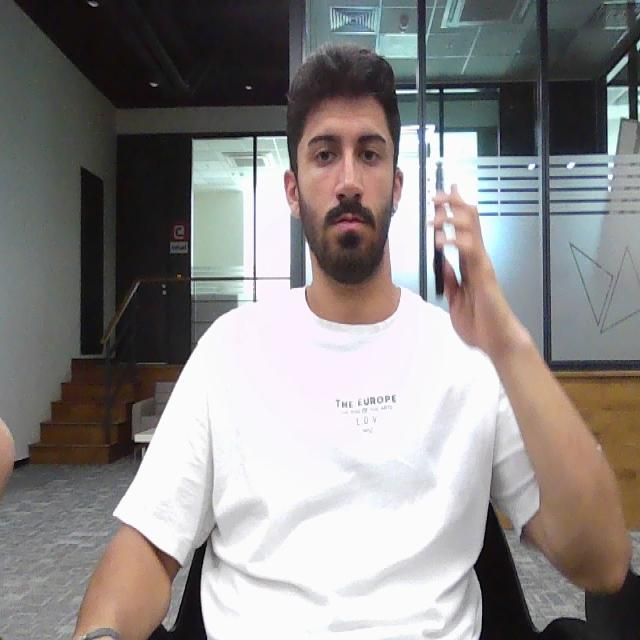phone: (432, 160, 445, 300)
